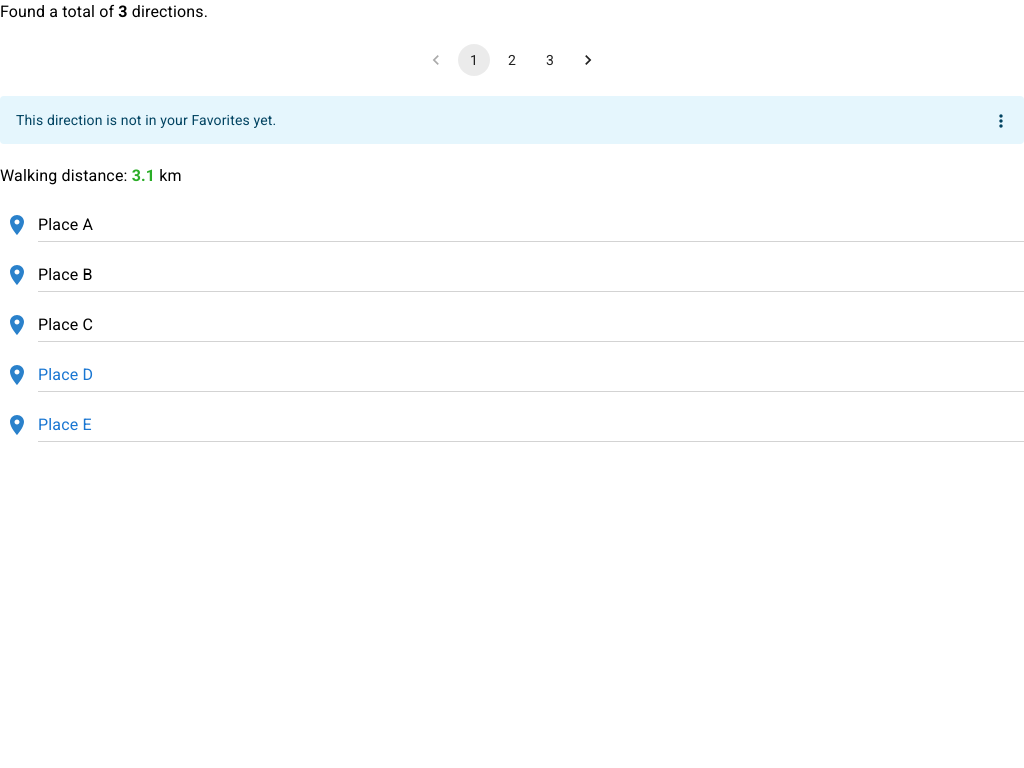
Scenario: <ResultDirecsContent /> › control Save opens Save dialog
Click the button named "Menu" at [1001, 121], box [986,106,1016,136]
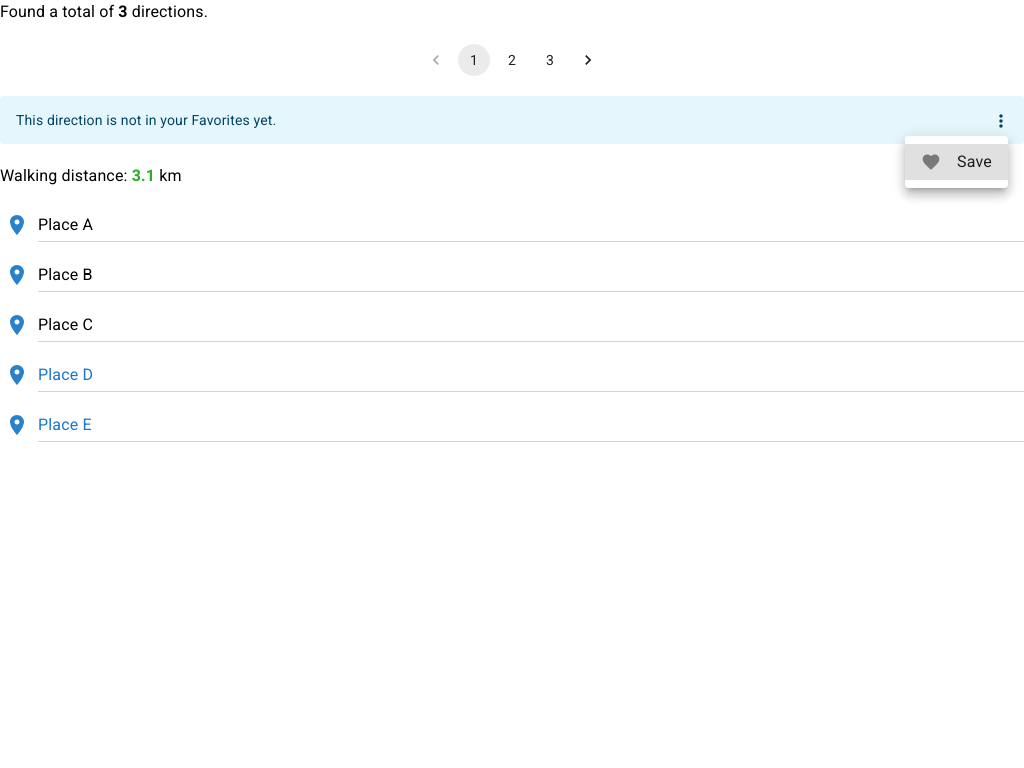
Click the menu item "Save" at [956, 162], box [905,144,1008,180]
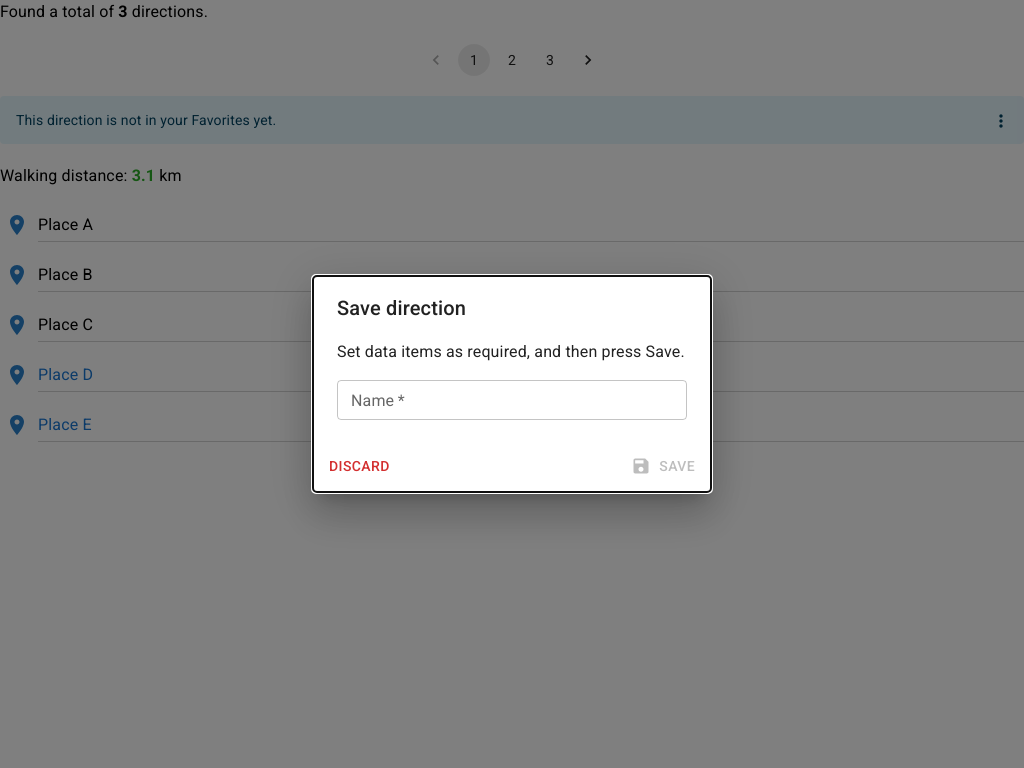
Check: the dialog "Save direction" is shown, box [313,276,711,492]
